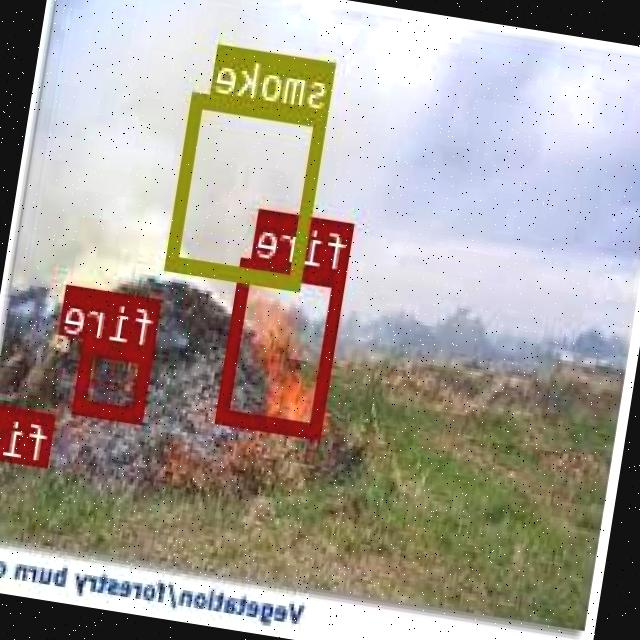fire: (218, 257, 349, 436), (76, 337, 156, 421), (0, 406, 56, 465)
smoke: (167, 90, 331, 290)
